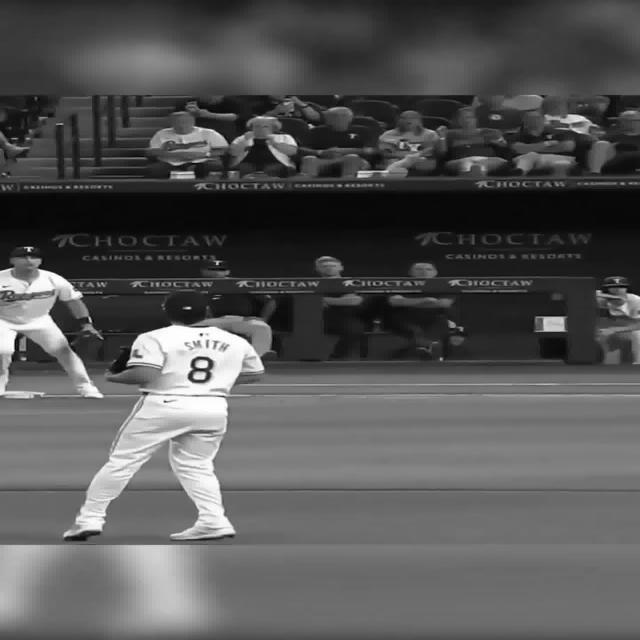shoe: (169, 517, 235, 540), (62, 520, 104, 540), (74, 383, 104, 398)
